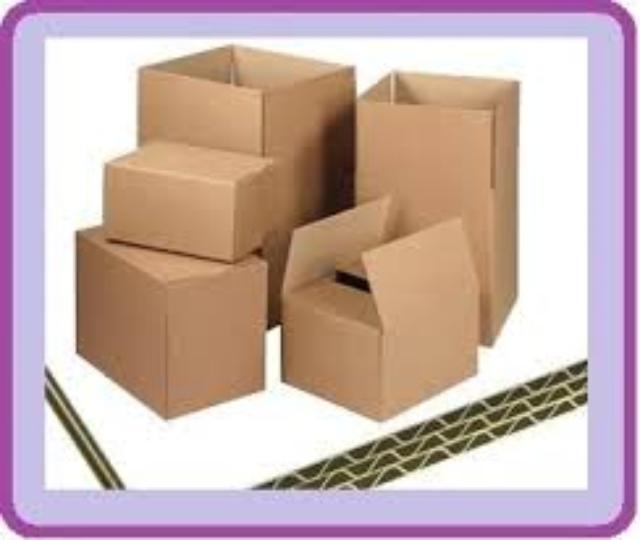cardboard paper: (136, 44, 356, 326), (283, 199, 477, 417), (357, 76, 514, 344), (76, 228, 265, 414), (102, 142, 275, 260)
